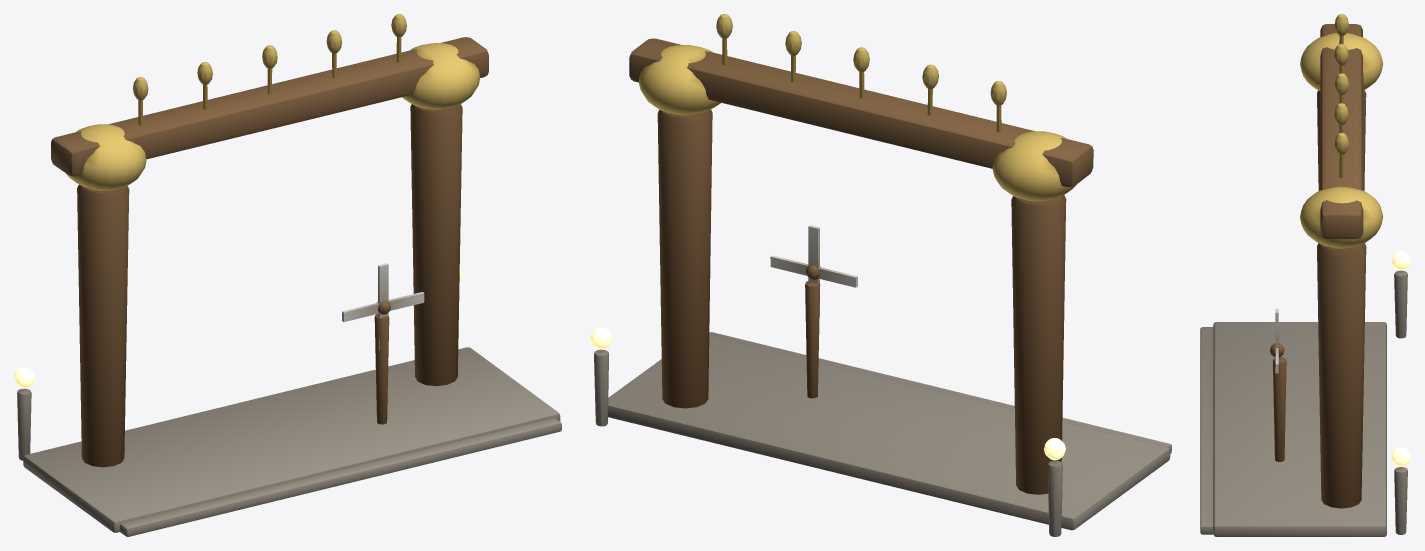
The picture shows the model from 3 angles, left to right: view 1: azimuth 30°, elevation 25°; view 2: azimuth 150°, elevation 25°; view 3: azimuth 270°, elevation 25°; orthographic projection. The views are drawn at different scales.
Visible parts, largest first — view 1: gate_a1c72d08; view 2: gate_a1c72d08; view 3: gate_a1c72d08.
Boxes of the visible parts, bbox=[...] form: gate_a1c72d08: bbox=[14, 14, 561, 536]; gate_a1c72d08: bbox=[590, 14, 1171, 536]; gate_a1c72d08: bbox=[1200, 14, 1410, 536].
Bounding box in the file's own units: 5.89 × 4.84 × 2.55.
